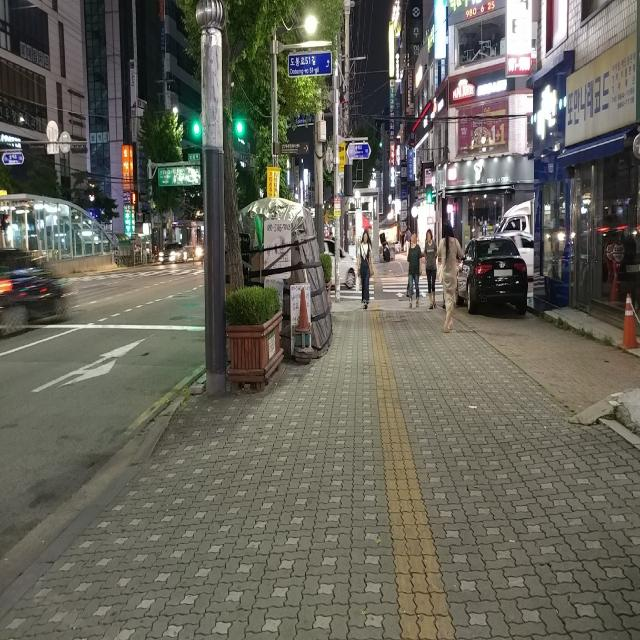횡단보도: (330, 278, 443, 300)
